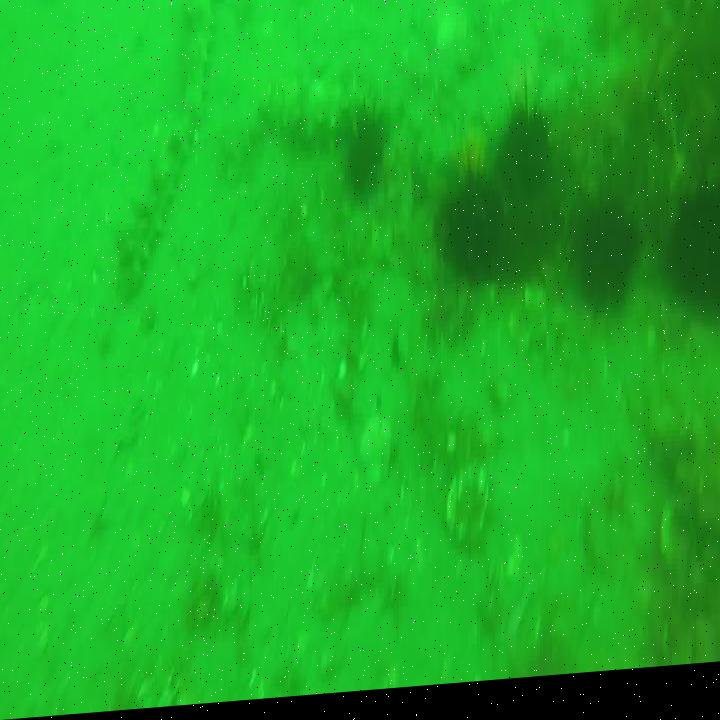echinus: (572, 204, 651, 328), (438, 172, 512, 286), (666, 199, 720, 331), (500, 105, 557, 201), (349, 121, 394, 200)
holothurian: (117, 0, 211, 309), (254, 69, 373, 156)
scallop: (447, 478, 492, 554), (658, 517, 696, 603), (359, 426, 398, 487)
